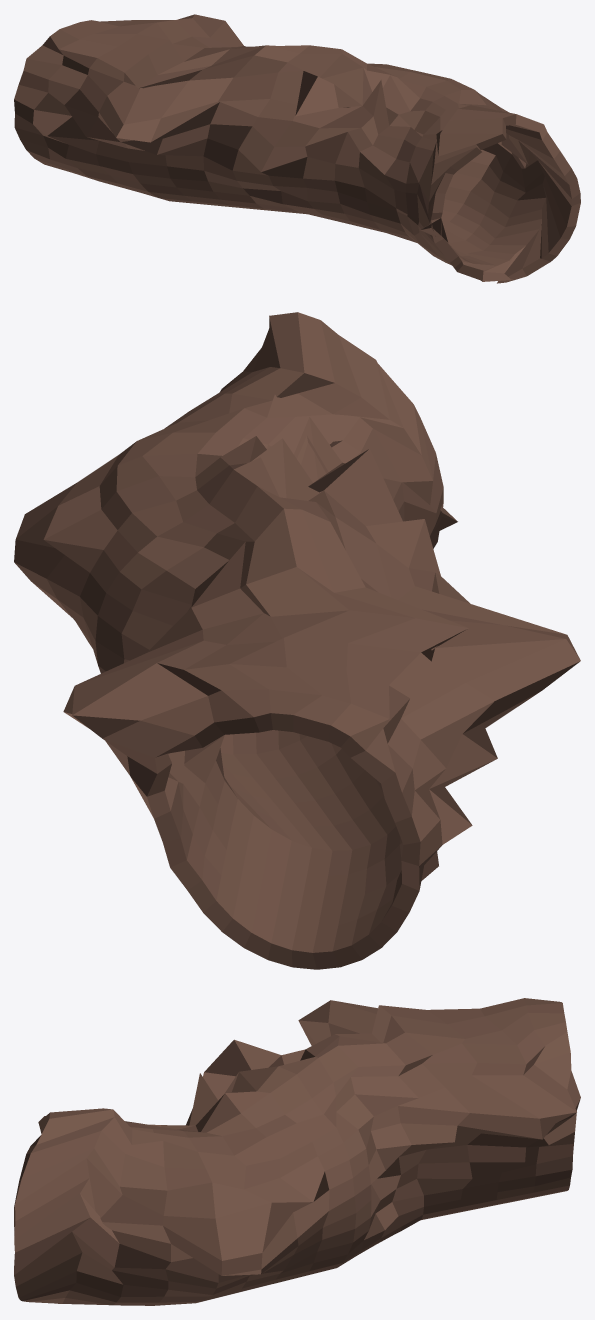
File: LowPolyLog.fbx
3 views of the same model, one above another, from view 1: azimuth 30°, elevation 25°; view 2: azimuth 150°, elevation 25°; view 3: azimuth 270°, elevation 25° (orthographic). The views are drawn at different scales.
Parts seen in each view (by area): view 1: Low_Poly_Log; view 2: Low_Poly_Log; view 3: Low_Poly_Log.
Boxes of the visible parts, x1,y1,x2,y2 form: Low_Poly_Log: (14, 14, 580, 283); Low_Poly_Log: (14, 312, 580, 969); Low_Poly_Log: (14, 998, 580, 1305).
Bounding box in the file's own units: 536 × 238 × 609.
